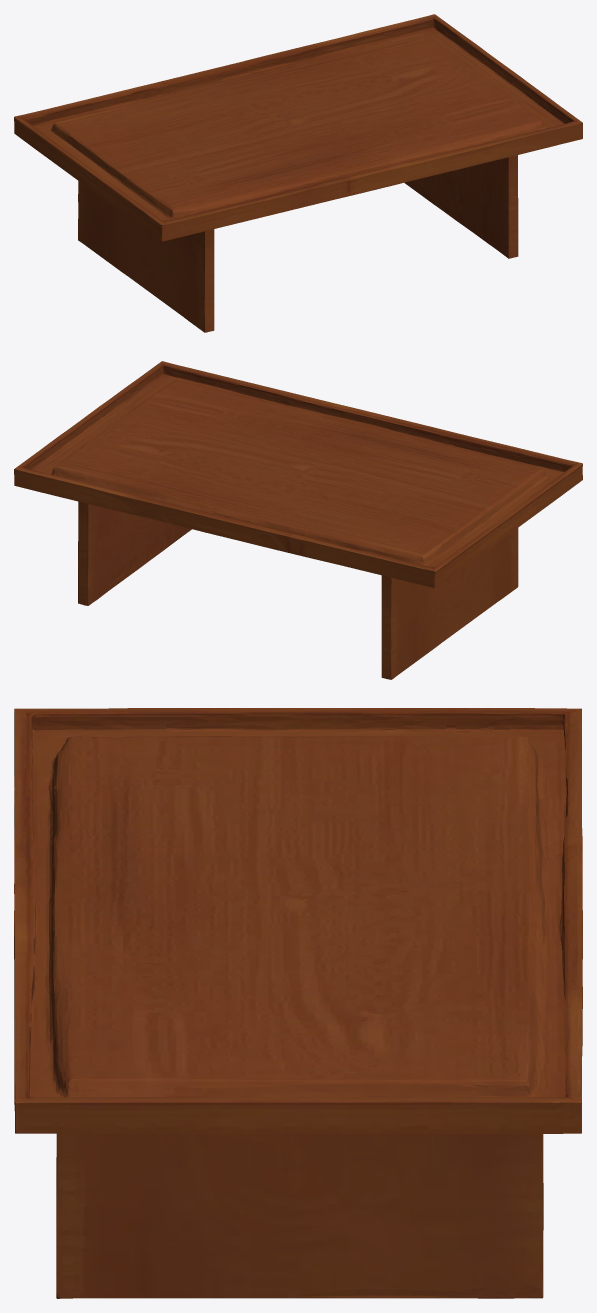
File: 89f4e942-59c0-4217-9cba-e769e551c0a3.glb
3 renders of one model, top to bottom at view 1: azimuth 30°, elevation 25°; view 2: azimuth 150°, elevation 25°; view 3: azimuth 270°, elevation 25°, orthographic. The views are drawn at different scales.
Visible parts, largest first — view 1: world; view 2: world; view 3: world.
Boxes of the visible parts, bbox=[...] form: world: bbox=[14, 14, 582, 332]; world: bbox=[14, 361, 582, 679]; world: bbox=[14, 708, 582, 1298].
Bounding box in the file's own units: 1 × 0.294 × 0.611.
Materials: 1 (1 with a texture image).
